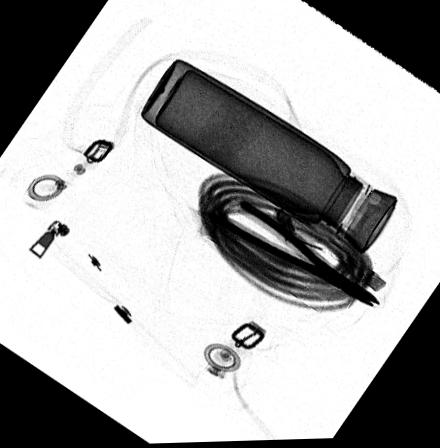Pliers: (202, 197, 380, 311)
